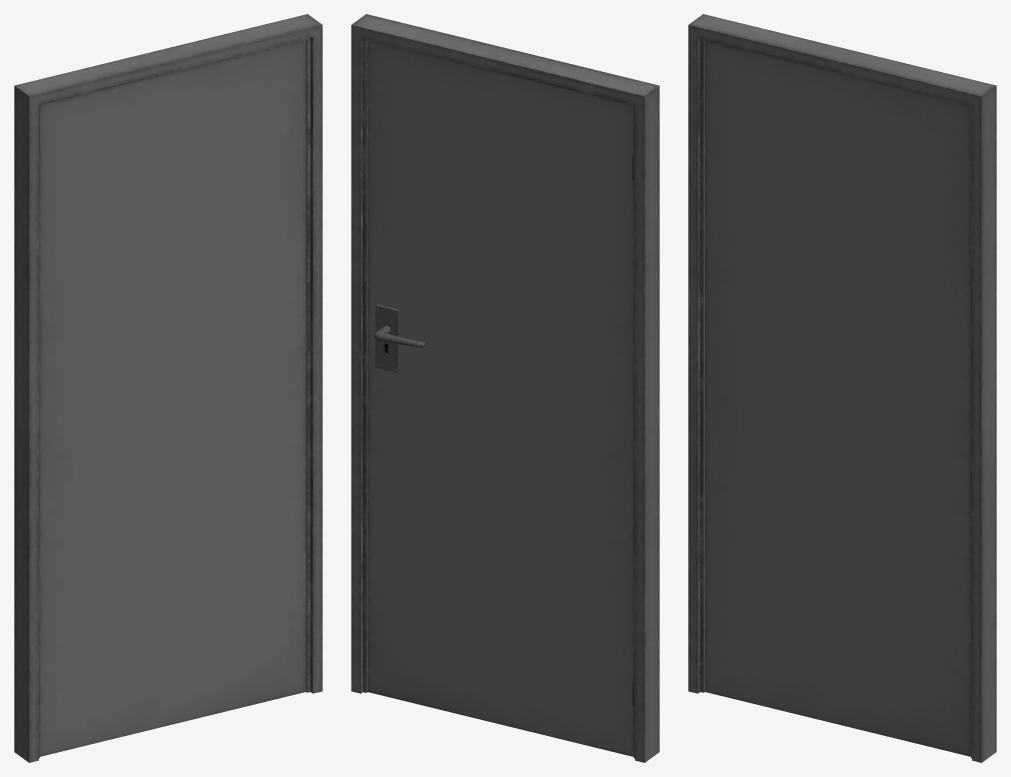
Rendered from metal_door.gltf.
The picture shows the model from 3 angles, left to right: view 1: azimuth 30°, elevation 25°; view 2: azimuth 150°, elevation 25°; view 3: azimuth 330°, elevation 25°; orthographic projection.
Visible parts, largest first — view 1: Main_Low, Frame_Low; view 2: Main_Low, Frame_Low, HandleBase_Low; view 3: Main_Low, Frame_Low.
Boxes of the visible parts, box(x1,y1,x2,y2) form: Main_Low: box(40, 40, 306, 756); Frame_Low: box(14, 14, 322, 762); Main_Low: box(367, 40, 633, 756); Frame_Low: box(351, 14, 659, 762); HandleBase_Low: box(375, 304, 399, 372); Main_Low: box(705, 40, 970, 756); Frame_Low: box(688, 14, 996, 762).
Bounding box in the file's own units: 98.76 × 214 × 14.08.
1 material, 1 textured.
